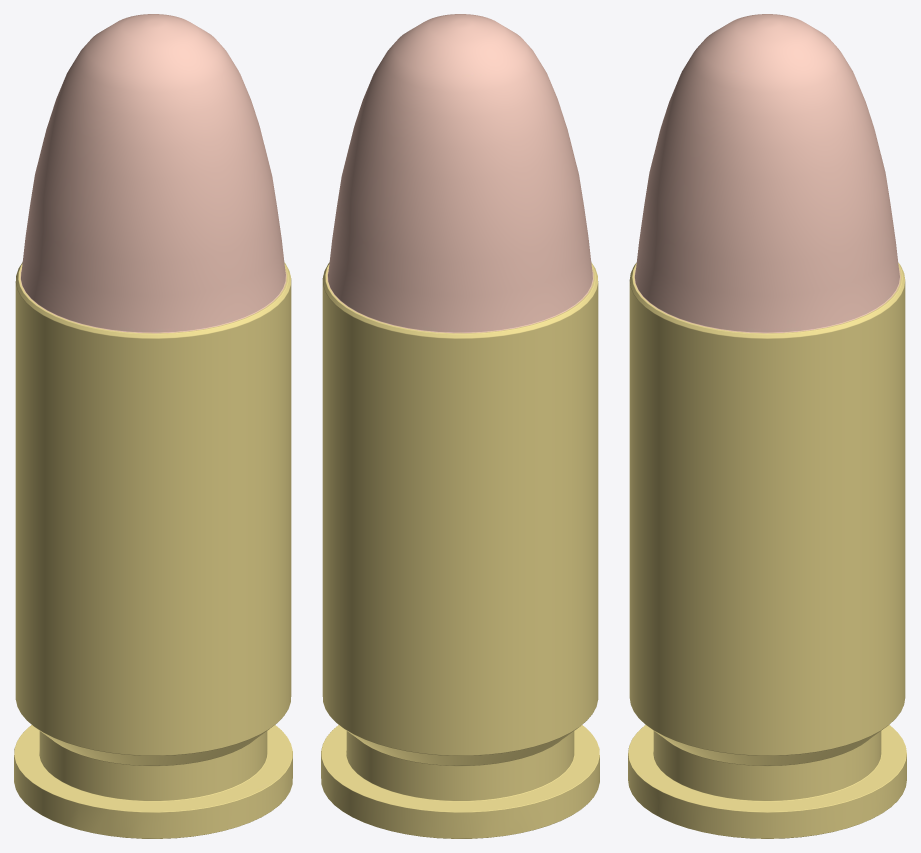
File: round_9mm.glb
3 views of the same model, side by side, from view 1: azimuth 30°, elevation 25°; view 2: azimuth 150°, elevation 25°; view 3: azimuth 270°, elevation 25° (orthographic).
Visible parts, largest first — view 1: round_9mm; view 2: round_9mm; view 3: round_9mm.
Part boxes in pixels (box(x1,y1,x2,y2)): round_9mm: box(14, 14, 292, 838); round_9mm: box(321, 14, 599, 838); round_9mm: box(628, 14, 906, 838).
Size of the model in its own units: 0.00991 by 0.0297 by 0.00991.
1 material, 1 textured.
